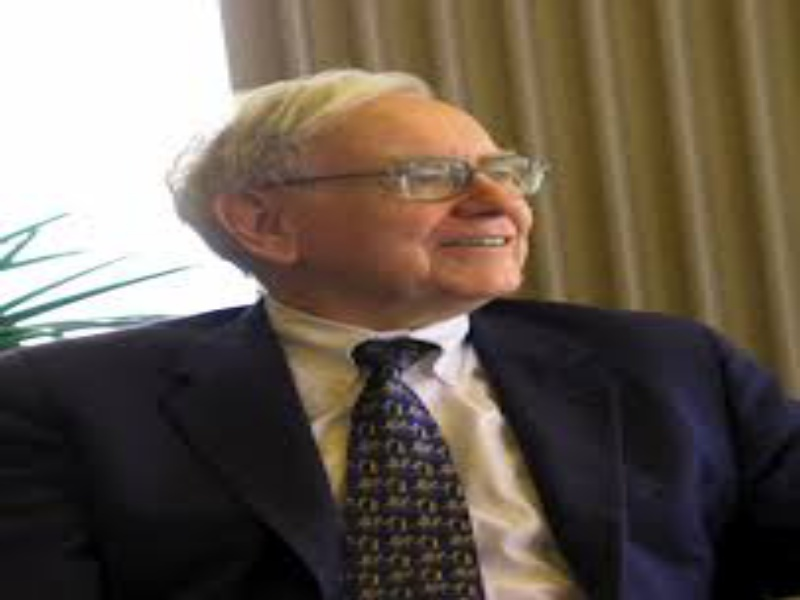TsisyArotava: (306, 83, 566, 318)
